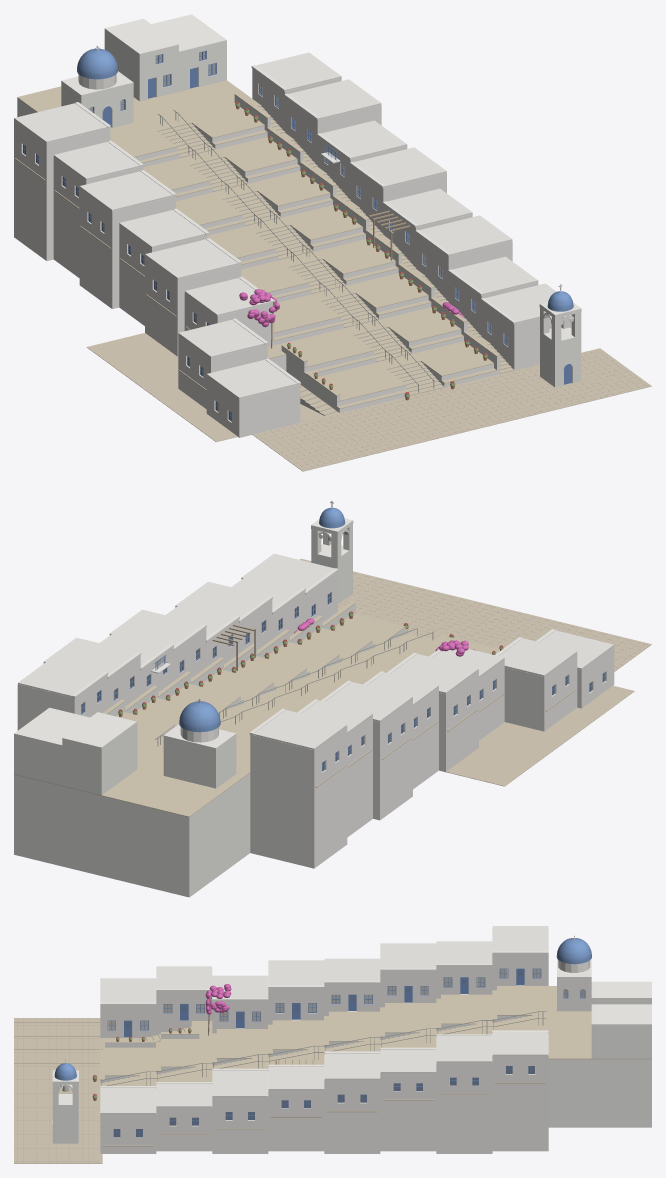
Rendered from clay-stepped-terraced-plaza-clay-v002.glb.
The picture shows the model from 3 angles, top to bottom: view 1: azimuth 30°, elevation 25°; view 2: azimuth 150°, elevation 25°; view 3: azimuth 270°, elevation 25°; orthographic projection. The views are drawn at different scales.
Parts seen in each view (by area): view 1: CLAY_STONE, CLAY_WHITE, CLAY_WALL, CLAY_ROOF, CLAY_PAVING, CLAY_JOINT, CLAY_BLUE, CLAY_DOME, CLAY_HARDWARE, CLAY_GLASS, CLAY_BOUGAIN; view 2: CLAY_WHITE, CLAY_WALL, CLAY_ROOF, CLAY_STONE, CLAY_PAVING, CLAY_JOINT, CLAY_DOME, CLAY_BLUE, CLAY_HARDWARE, CLAY_GLASS; view 3: CLAY_WALL, CLAY_ROOF, CLAY_STONE, CLAY_WHITE, CLAY_PAVING, CLAY_BLUE, CLAY_GLASS, CLAY_JOINT, CLAY_HARDWARE, CLAY_DOME, CLAY_FLOOR, CLAY_BOUGAIN.
Boxes of the visible parts, left/top/right/bottom form: CLAY_STONE: left=14, top=80, right=514, bottom=415; CLAY_WHITE: left=17, top=14, right=581, bottom=437; CLAY_WALL: left=14, top=39, right=581, bottom=437; CLAY_ROOF: left=14, top=52, right=556, bottom=398; CLAY_PAVING: left=86, top=333, right=651, bottom=471; CLAY_JOINT: left=258, top=350, right=649, bottom=469; CLAY_BLUE: left=23, top=50, right=571, bottom=421; CLAY_DOME: left=77, top=48, right=573, bottom=311; CLAY_HARDWARE: left=158, top=110, right=564, bottom=392; CLAY_GLASS: left=23, top=51, right=508, bottom=421; CLAY_BOUGAIN: left=239, top=289, right=464, bottom=327; CLAY_WHITE: left=14, top=500, right=578, bottom=897; CLAY_WALL: left=17, top=545, right=614, bottom=868; CLAY_ROOF: left=18, top=553, right=614, bottom=749; CLAY_STONE: left=14, top=601, right=576, bottom=817; CLAY_PAVING: left=299, top=558, right=651, bottom=786; CLAY_JOINT: left=310, top=562, right=647, bottom=667; CLAY_DOME: left=179, top=507, right=345, bottom=732; CLAY_BLUE: left=81, top=592, right=605, bottom=771; CLAY_HARDWARE: left=155, top=537, right=433, bottom=746; CLAY_GLASS: left=81, top=593, right=605, bottom=771; CLAY_WALL: left=52, top=927, right=594, bottom=1153; CLAY_ROOF: left=100, top=926, right=548, bottom=1114; CLAY_STONE: left=100, top=986, right=651, bottom=1146; CLAY_WHITE: left=52, top=928, right=651, bottom=1152; CLAY_PAVING: left=14, top=1018, right=148, bottom=1163; CLAY_BLUE: left=107, top=968, right=585, bottom=1137; CLAY_GLASS: left=108, top=969, right=584, bottom=1136; CLAY_JOINT: left=14, top=1018, right=99, bottom=1163; CLAY_HARDWARE: left=62, top=1011, right=546, bottom=1091; CLAY_DOME: left=54, top=938, right=591, bottom=1080; CLAY_FLOOR: left=164, top=969, right=540, bottom=1124; CLAY_BOUGAIN: left=205, top=984, right=231, bottom=1014.
Bounding box in the file's own units: 43.99 × 17.1 × 74.
